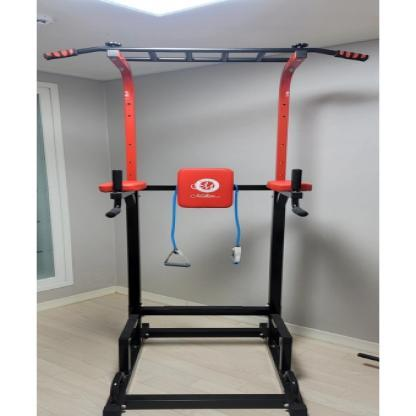chinning dipping: (42, 41, 367, 416)
